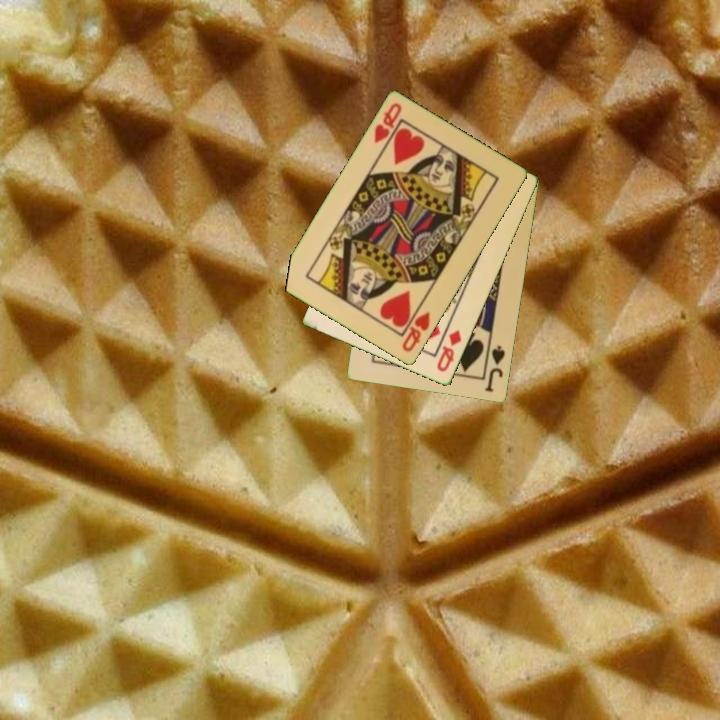Js: (481, 342, 508, 395)
Qd: (433, 326, 465, 375)
Qh: (398, 308, 433, 355), (371, 100, 405, 147)
